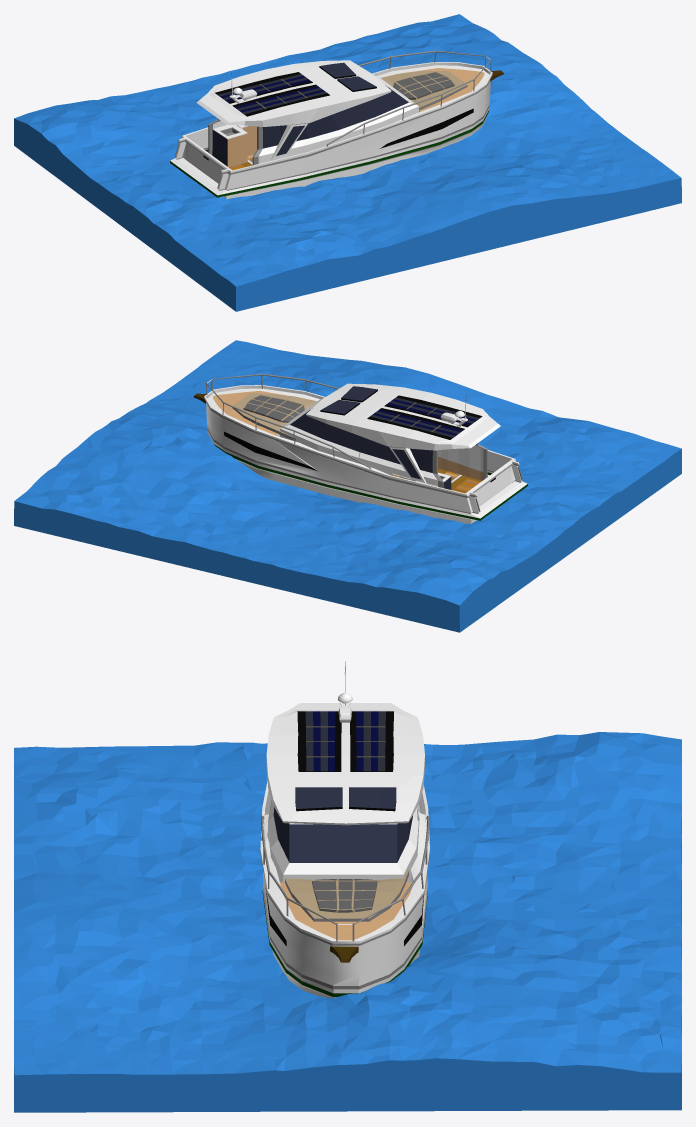
The picture shows the model from 3 angles, top to bottom: view 1: azimuth 30°, elevation 25°; view 2: azimuth 150°, elevation 25°; view 3: azimuth 270°, elevation 25°; orthographic projection. The views are drawn at different scales.
Parts seen in each view (by area): view 1: Eau_19, bat du bateau_14, toit_17, vitre_18, capo_16, barre haut_3; view 2: Eau_19, bat du bateau_14, toit_17, vitre_18, capo_16, barre haut_3; view 3: Eau_19, toit_17, bat du bateau_14, vitre_18, capo_16, barre haut_3.
Boxes of the visible parts, x1,y1,x2,y2 form: Eau_19: [14, 14, 681, 311]; bat du bateau_14: [170, 62, 492, 199]; toit_17: [196, 60, 391, 159]; vitre_18: [208, 76, 418, 170]; capo_16: [381, 70, 467, 110]; barre haut_3: [326, 50, 491, 146]; Eau_19: [14, 340, 681, 632]; bat du bateau_14: [204, 385, 527, 523]; toit_17: [306, 383, 500, 482]; vitre_18: [280, 399, 487, 493]; capo_16: [232, 392, 316, 441]; barre haut_3: [206, 373, 371, 469]; Eau_19: [14, 732, 681, 1112]; toit_17: [266, 703, 424, 825]; bat du bateau_14: [260, 781, 429, 997]; vitre_18: [268, 799, 418, 882]; capo_16: [285, 869, 408, 921]; barre haut_3: [261, 815, 429, 924].
Bounding box in the file's own units: 18.24 × 5.25 × 15.74.
